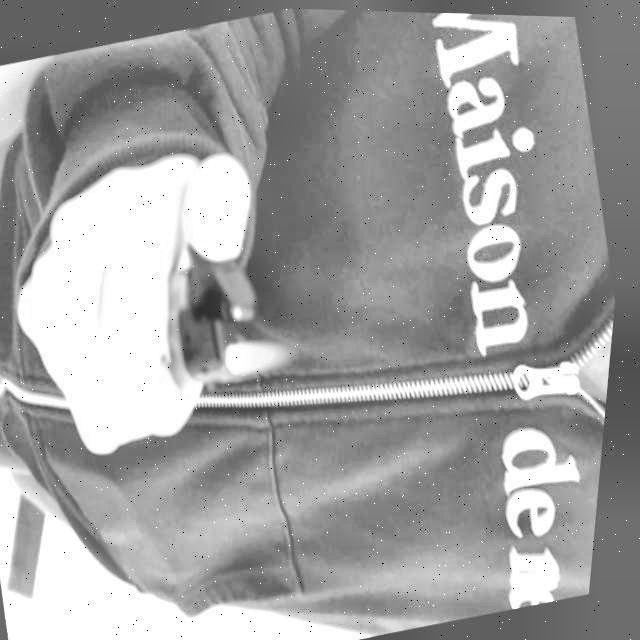Fire: (236, 329, 307, 377)
